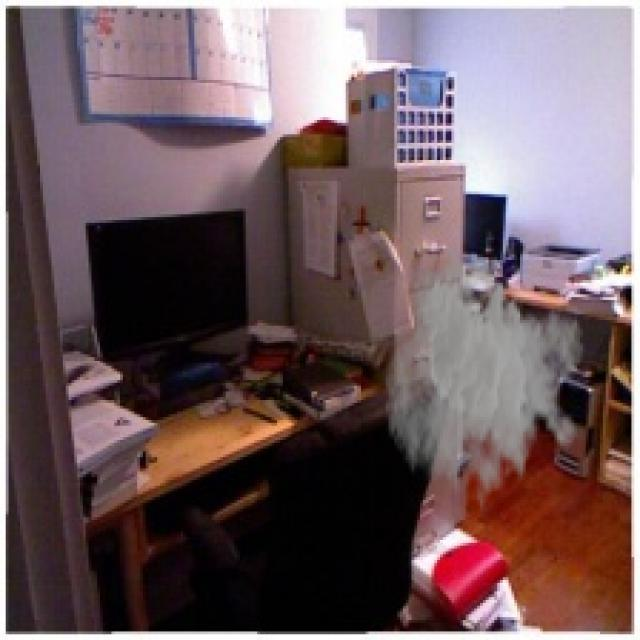Smoke: (383, 243, 586, 520)
